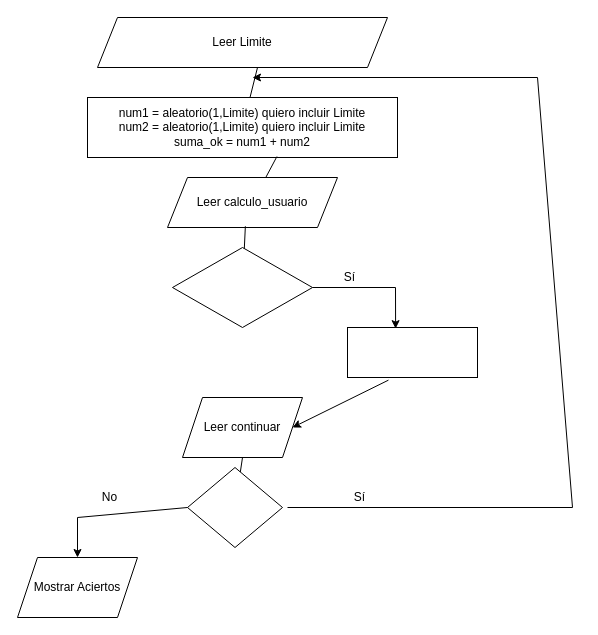
Some shapes in this 598 by 635 pixel diagram are drawn without their labels. The centre of each missing label's shape, as x and y in pixels:
"aciertos = aciertos + 1" goes at [412,352].
"calculo_usuario == suma_ok" goes at [242,287].
"continuar != 'n'" goes at [234,507].
